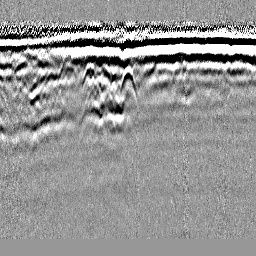cavity: (118, 63, 139, 104)
